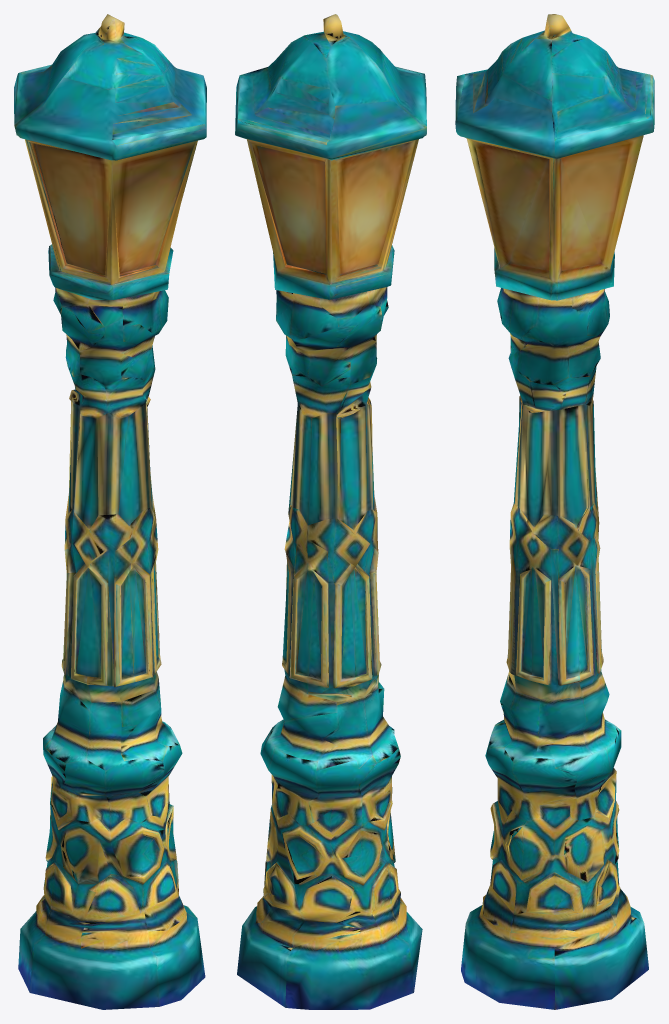
File: lamp.glb
The picture shows the model from 3 angles, left to right: view 1: azimuth 30°, elevation 25°; view 2: azimuth 150°, elevation 25°; view 3: azimuth 270°, elevation 25°; orthographic projection.
Visible parts, largest first — view 1: geometry_0; view 2: geometry_0; view 3: geometry_0.
Boxes of the visible parts, bbox=[...] form: geometry_0: bbox=[14, 14, 206, 1009]; geometry_0: bbox=[235, 14, 426, 1009]; geometry_0: bbox=[455, 14, 654, 1009].
Size of the model in its own units: 0.1977 by 0.9482 by 0.1792.
Materials: 1 (1 with a texture image).
